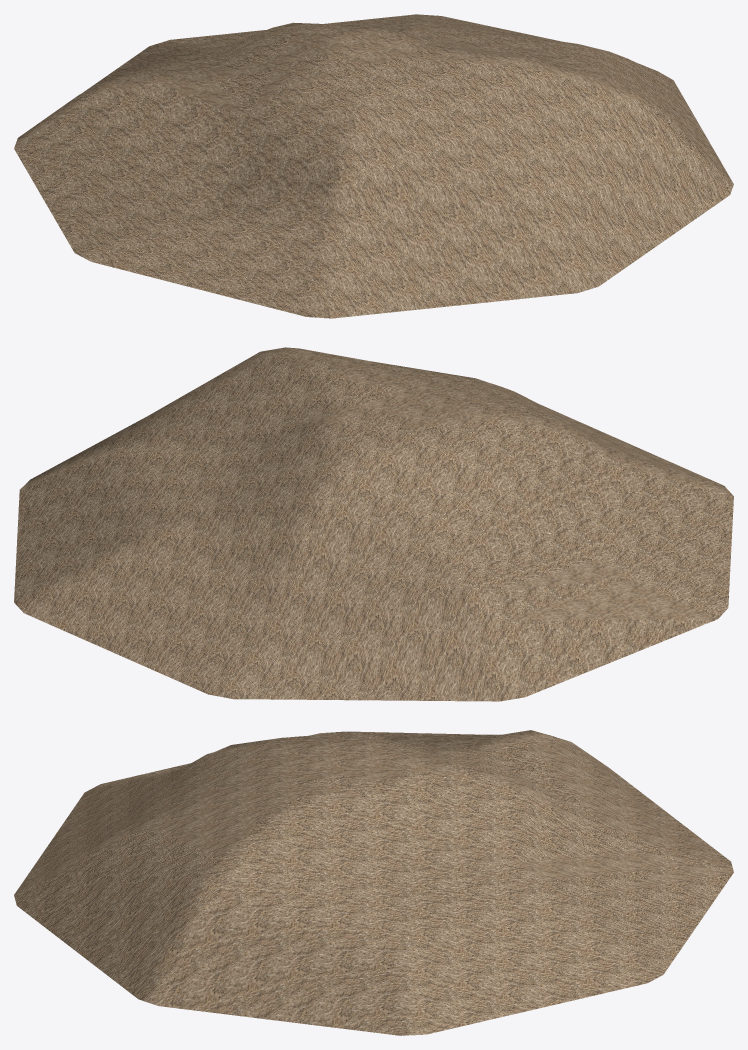
The model's file is heap.fbx.
3 views of the same model, one above another, from view 1: azimuth 30°, elevation 25°; view 2: azimuth 150°, elevation 25°; view 3: azimuth 270°, elevation 25° (orthographic). The views are drawn at different scales.
Parts seen in each view (by area): view 1: pSphere2; view 2: pSphere2; view 3: pSphere2.
Part boxes in pixels (x1,y1,x2,y2): pSphere2: [14, 14, 733, 318]; pSphere2: [14, 347, 733, 701]; pSphere2: [14, 730, 733, 1035].
Bounding box in the file's own units: 510 × 91.71 × 510.
1 material, 1 textured.
